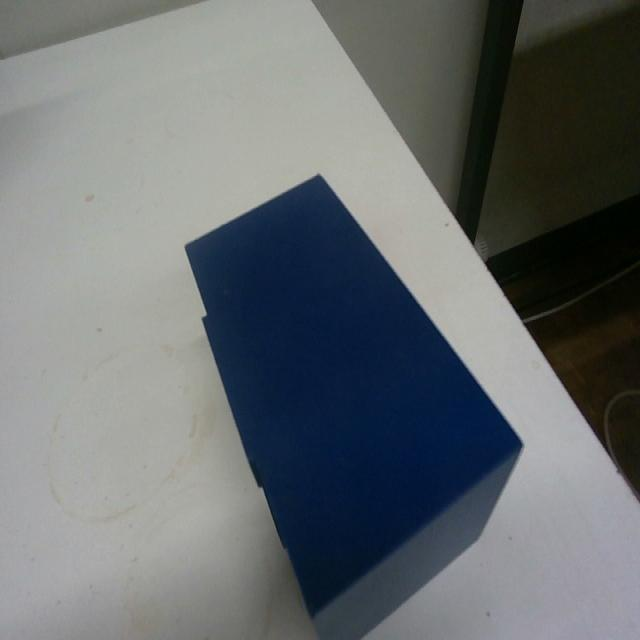Blue Cuboid: (182, 169, 524, 636)
